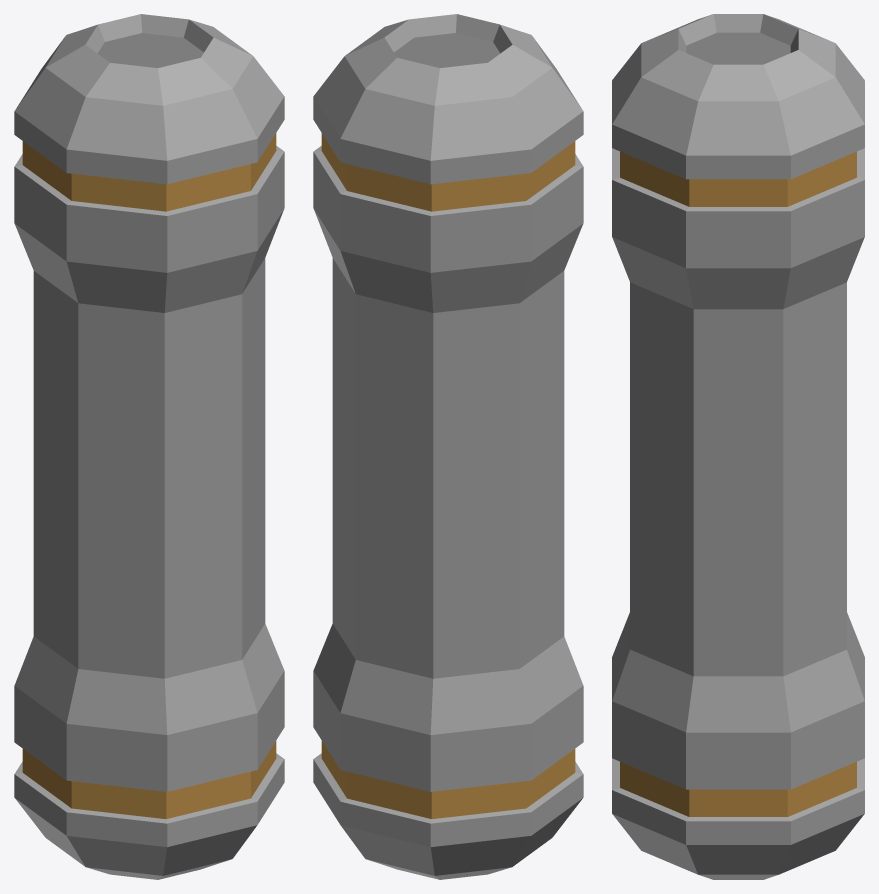
File: Props_Vessel_Tall.gltf
The picture shows the model from 3 angles, left to right: view 1: azimuth 30°, elevation 25°; view 2: azimuth 150°, elevation 25°; view 3: azimuth 270°, elevation 25°; orthographic projection.
Parts seen in each view (by area): view 1: Props_Vessel_Tall; view 2: Props_Vessel_Tall; view 3: Props_Vessel_Tall.
Part boxes in pixels (left/top/right/bottom): Props_Vessel_Tall: left=14, top=14, right=284, bottom=879; Props_Vessel_Tall: left=313, top=14, right=583, bottom=879; Props_Vessel_Tall: left=612, top=14, right=864, bottom=879.
Bounding box in the file's own units: 0.2873 × 1.02 × 0.2873.
